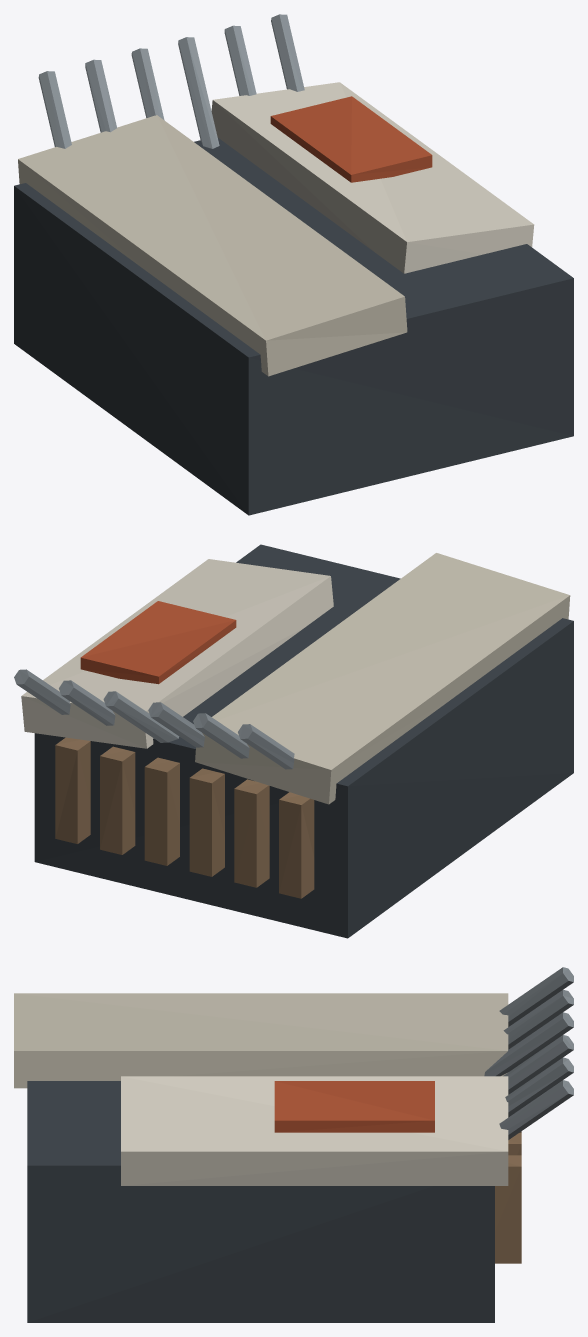
The model's file is fractured-cassette.glb.
3 views of the same model, one above another, from view 1: azimuth 30°, elevation 25°; view 2: azimuth 150°, elevation 25°; view 3: azimuth 270°, elevation 25° (orthographic). The views are drawn at different scales.
Parts seen in each view (by area): view 1: fractured-cassette__graphite, fractured-cassette__ceramic, fractured-cassette__edge, fractured-cassette__metal, fractured-cassette__oxide; view 2: fractured-cassette__graphite, fractured-cassette__ceramic, fractured-cassette__coil, fractured-cassette__edge, fractured-cassette__oxide, fractured-cassette__metal; view 3: fractured-cassette__graphite, fractured-cassette__ceramic, fractured-cassette__edge, fractured-cassette__metal, fractured-cassette__oxide, fractured-cassette__coil.
Boxes of the visible parts, x1,y1,x2,y2 form: fractured-cassette__graphite: [14, 137, 573, 515]; fractured-cassette__ceramic: [18, 115, 407, 376]; fractured-cassette__edge: [211, 82, 534, 273]; fractured-cassette__metal: [38, 14, 304, 148]; fractured-cassette__oxide: [270, 96, 432, 182]; fractured-cassette__graphite: [34, 544, 573, 938]; fractured-cassette__ceramic: [195, 553, 570, 804]; fractured-cassette__coil: [55, 737, 314, 898]; fractured-cassette__edge: [21, 559, 333, 748]; fractured-cassette__oxide: [80, 601, 236, 684]; fractured-cassette__metal: [14, 669, 294, 769]; fractured-cassette__graphite: [27, 1081, 494, 1322]; fractured-cassette__ceramic: [14, 993, 508, 1088]; fractured-cassette__edge: [121, 1076, 508, 1185]; fractured-cassette__metal: [484, 967, 573, 1139]; fractured-cassette__oxide: [274, 1081, 434, 1132]; fractured-cassette__coil: [495, 1131, 521, 1263].
Size of the model in its own units: 28.62 by 19.03 by 41.91.
